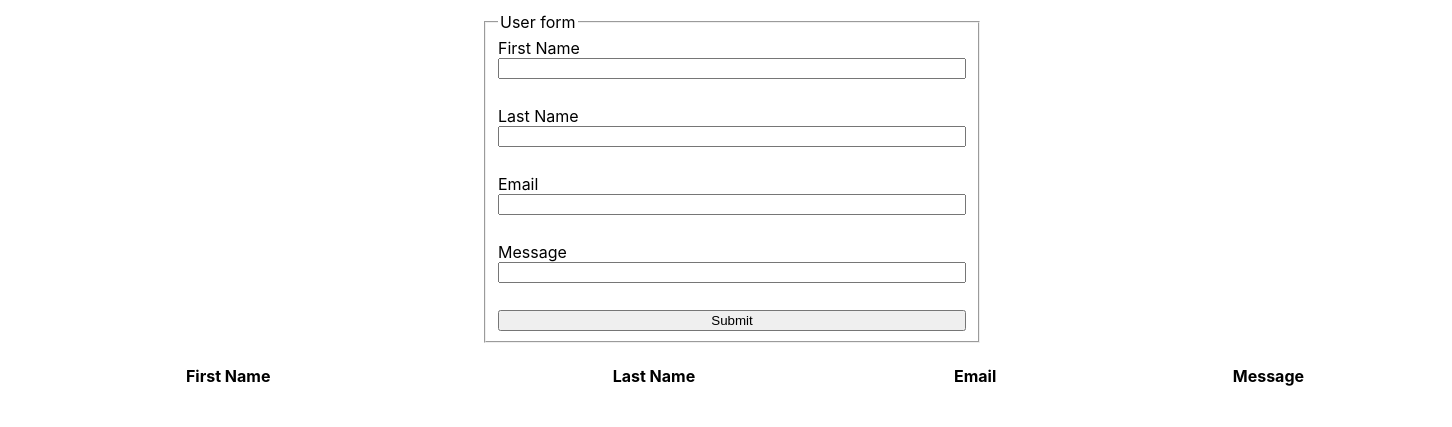
it: Should display new record in table after success form submit
Type "firstName 1" into the field with test id "firstName-input" at (732, 68), box [498,58,966,79]
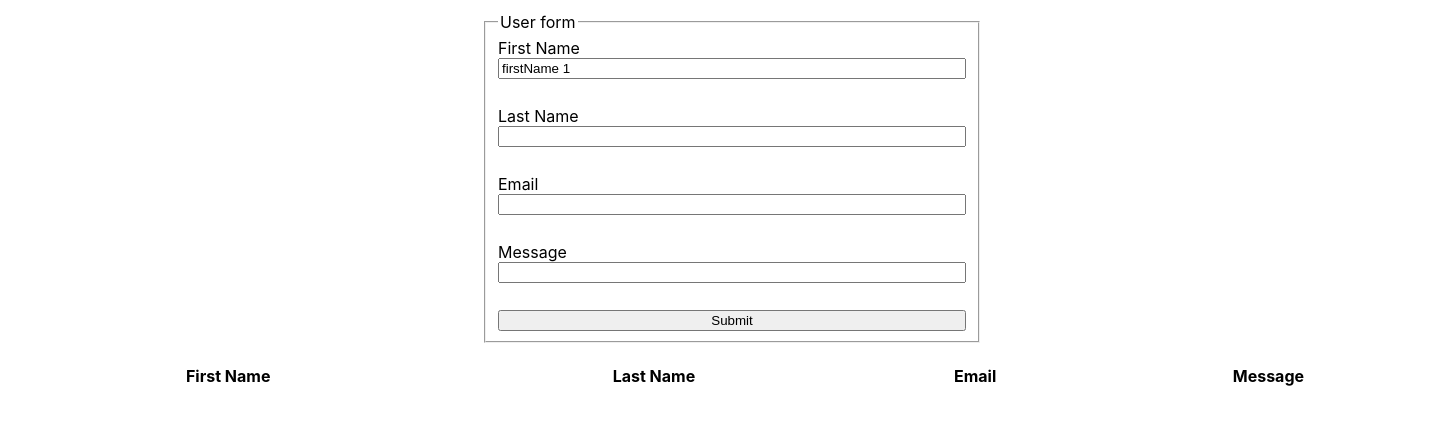
Type "lastName 1" into the field with test id "lastName-input" at (732, 136), box [498,126,966,147]
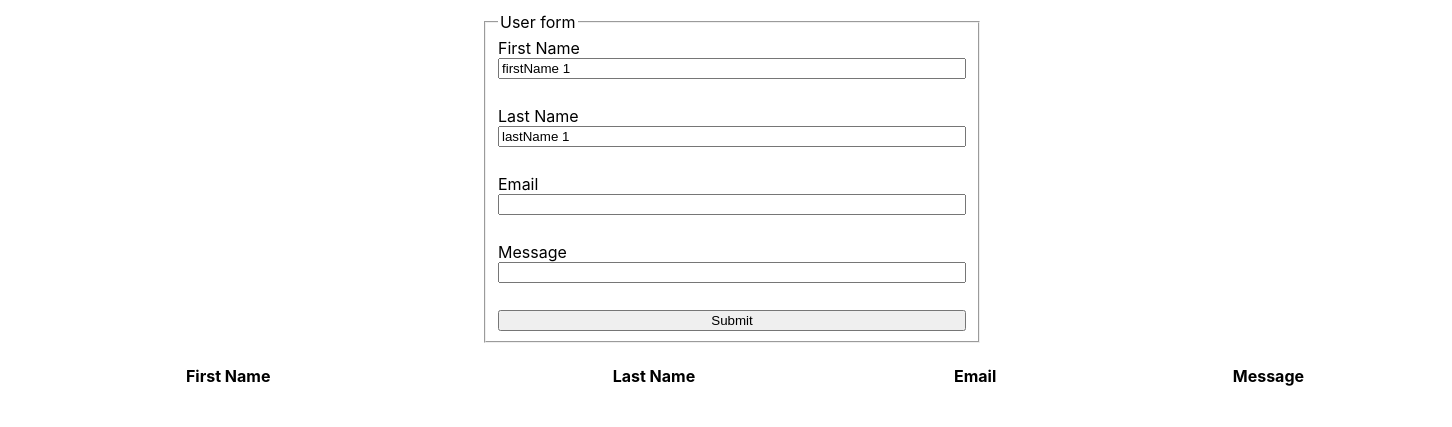
Type "someEmail@test.com" into the field with test id "email-input" at (732, 204), box [498,194,966,215]
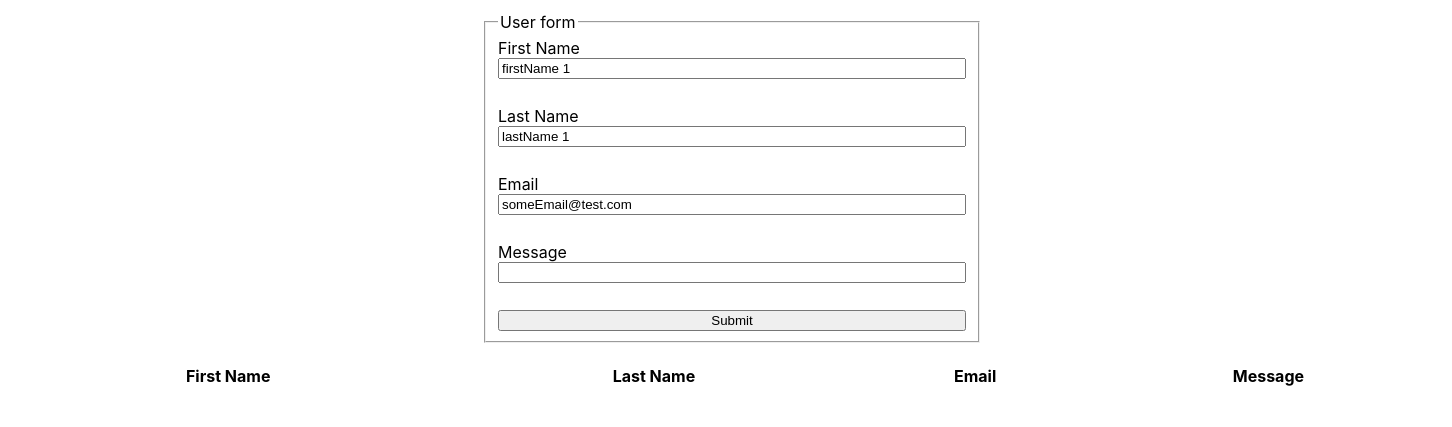
Type "Some message 1" into the field with test id "message-input" at (732, 272), box [498,262,966,283]
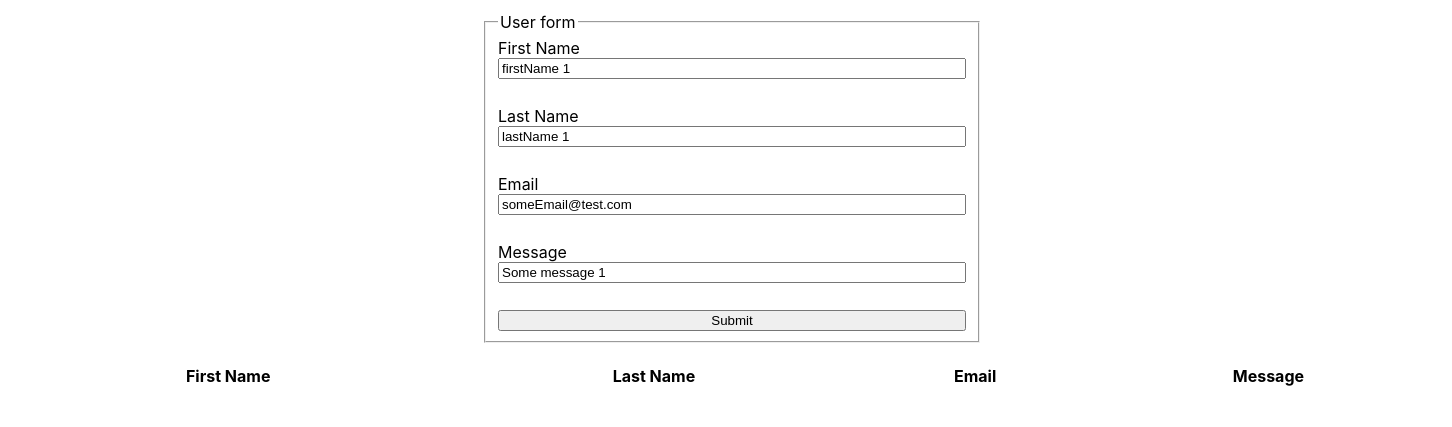
Click the button with test id "submit-btn" at (732, 320), box [498,310,966,331]
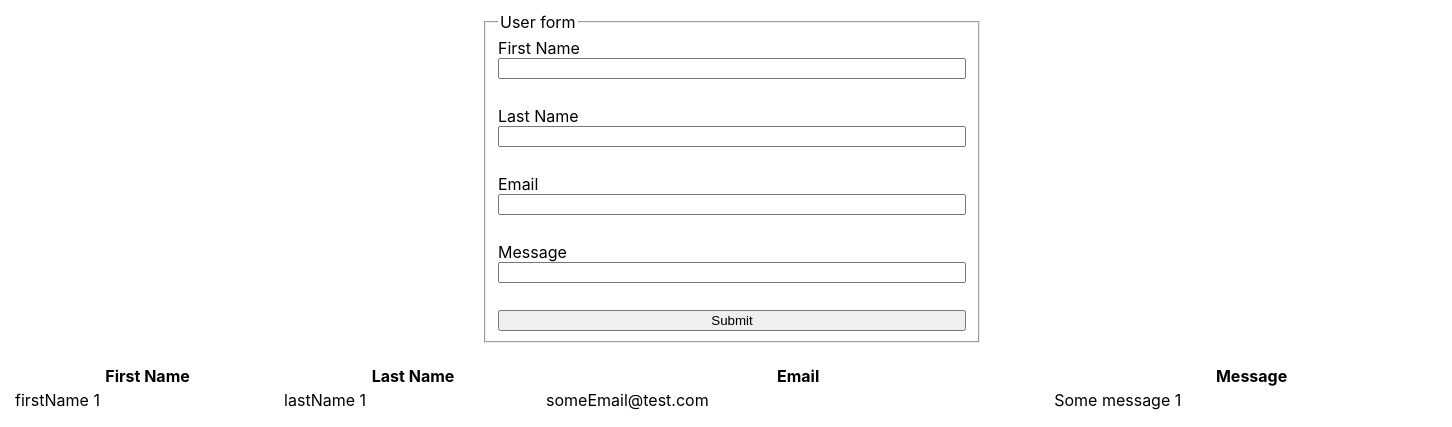
Now the number of rows with test id "data-row" is 1, box [14,389,1450,411]
Now the text "firstName 1" is shown, box [14,389,281,411]
Now the text "lastName 1" is shown, box [283,389,543,411]
